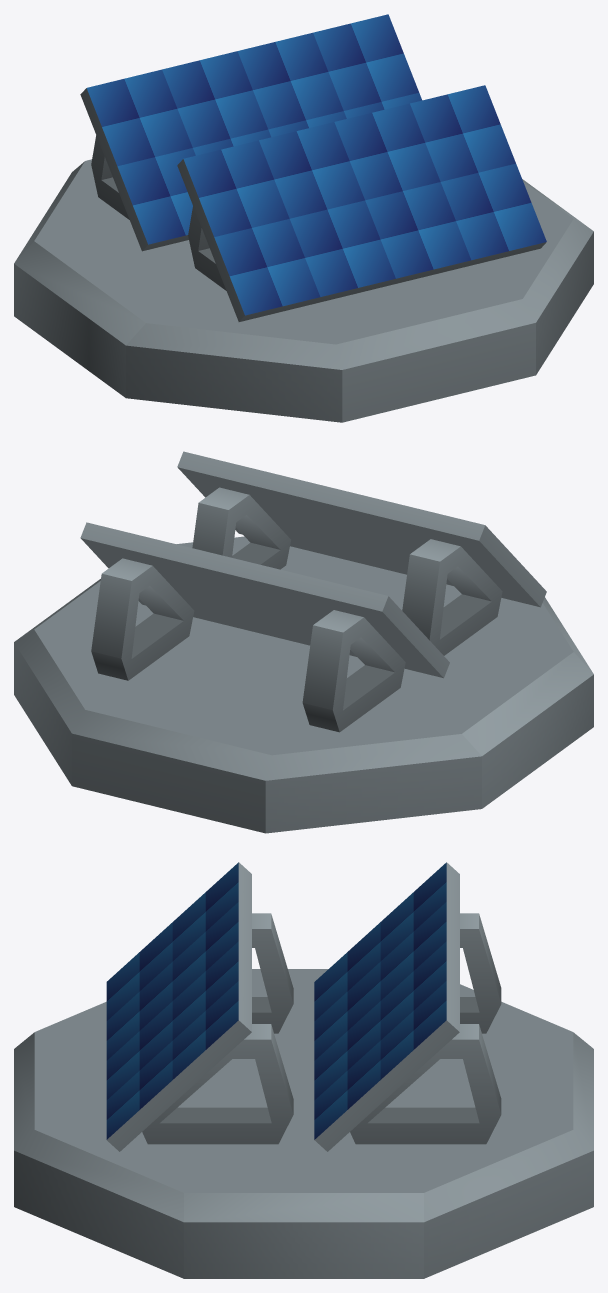
The model's file is roofmodule_solarpanels.glb.
The picture shows the model from 3 angles, top to bottom: view 1: azimuth 30°, elevation 25°; view 2: azimuth 150°, elevation 25°; view 3: azimuth 270°, elevation 25°; orthographic projection. The views are drawn at different scales.
Visible parts, largest first — view 1: roofmodule_solarpanels; view 2: roofmodule_solarpanels; view 3: roofmodule_solarpanels.
Part boxes in pixels (<box>): roofmodule_solarpanels: <box>14,14,593,422</box>; roofmodule_solarpanels: <box>14,451,593,833</box>; roofmodule_solarpanels: <box>14,862,593,1278</box>.
Bounding box in the file's own units: 1.4 × 0.571 × 1.4.
Materials: 1 (1 with a texture image).
